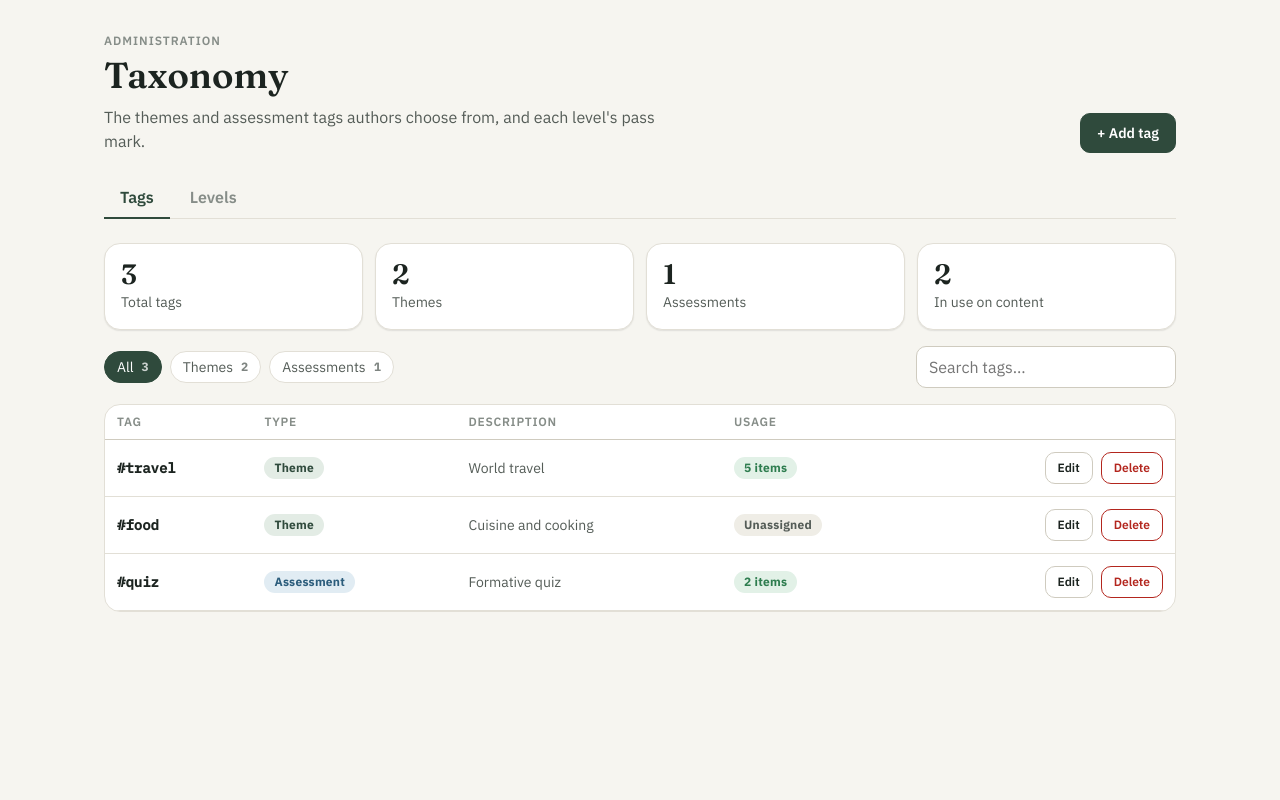
Test case: TaxonomyAdminScreen › a tag on content cannot be deleted: the dialog says why and offers no delete (Table IV Test 15)
What coordinates should you click on to do the following:
click the button with test id "btn-delete-tag" in the row of "#travel"
I would click on:
 (1132, 468)
Its box is [1101,452,1163,484].
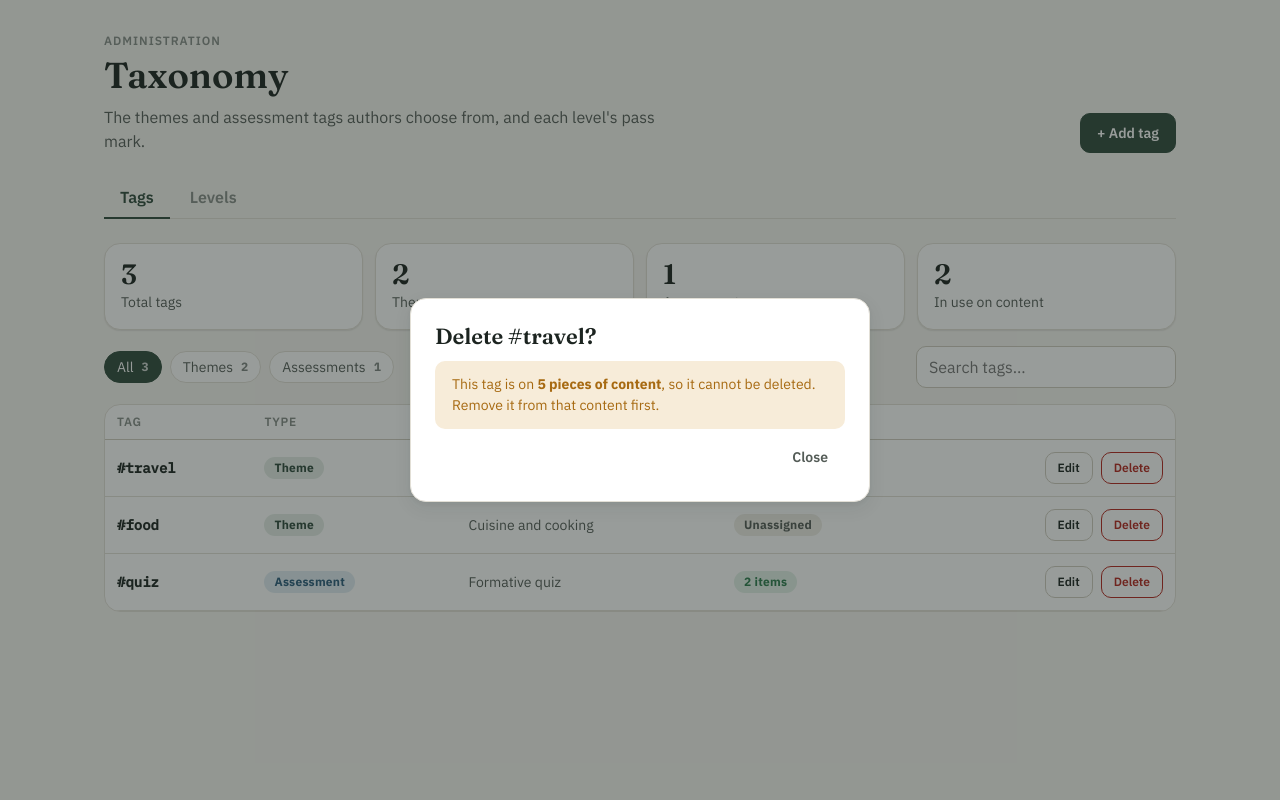
Expected: the element with test id "delete-blocked" shows "5 pieces of content", [537,375,661,393]
